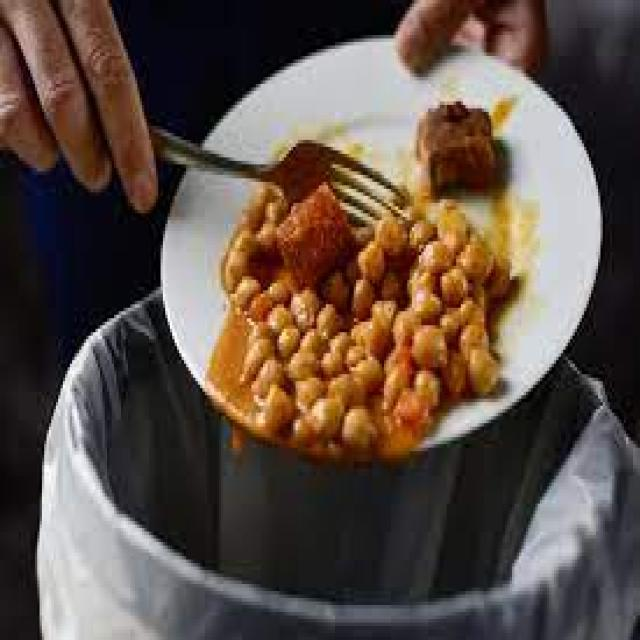Organik: (179, 52, 551, 519), (410, 72, 530, 208), (275, 173, 357, 297)
